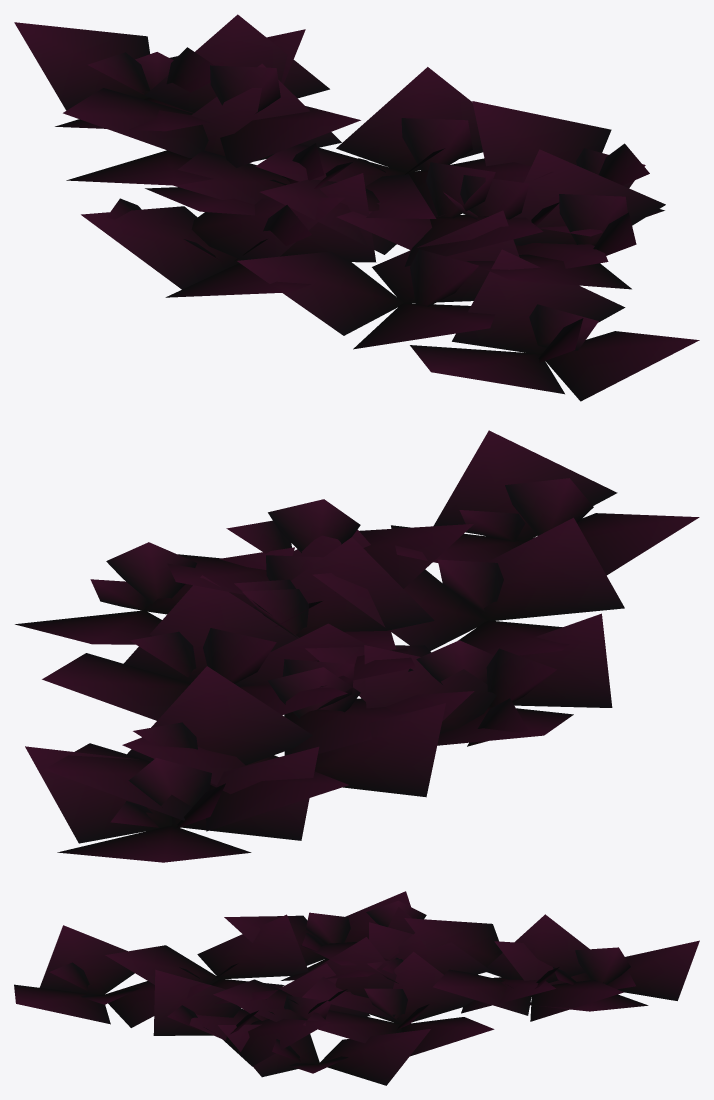
The model's file is TSI_Plant_23A.fbx.
The picture shows the model from 3 angles, top to bottom: view 1: azimuth 30°, elevation 25°; view 2: azimuth 150°, elevation 25°; view 3: azimuth 270°, elevation 25°; orthographic projection. The views are drawn at different scales.
Parts seen in each view (by area): view 1: TSI_Plant_23A_LOD0; view 2: TSI_Plant_23A_LOD0; view 3: TSI_Plant_23A_LOD0.
Boxes of the visible parts, x1,y1,x2,y2 form: TSI_Plant_23A_LOD0: (14, 14, 699, 401); TSI_Plant_23A_LOD0: (15, 430, 699, 862); TSI_Plant_23A_LOD0: (14, 891, 699, 1085).
Bounding box in the file's own units: 235 × 20.91 × 393.
